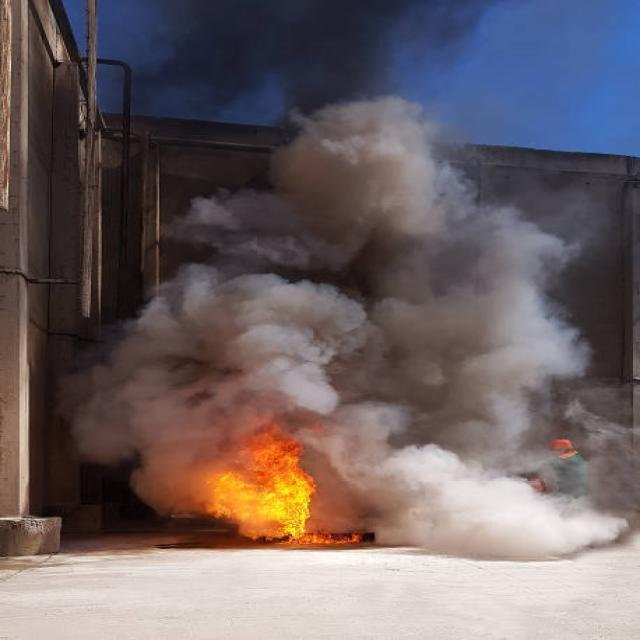Fire: (156, 419, 347, 536)
Smoke: (223, 116, 640, 546), (100, 283, 284, 452)
